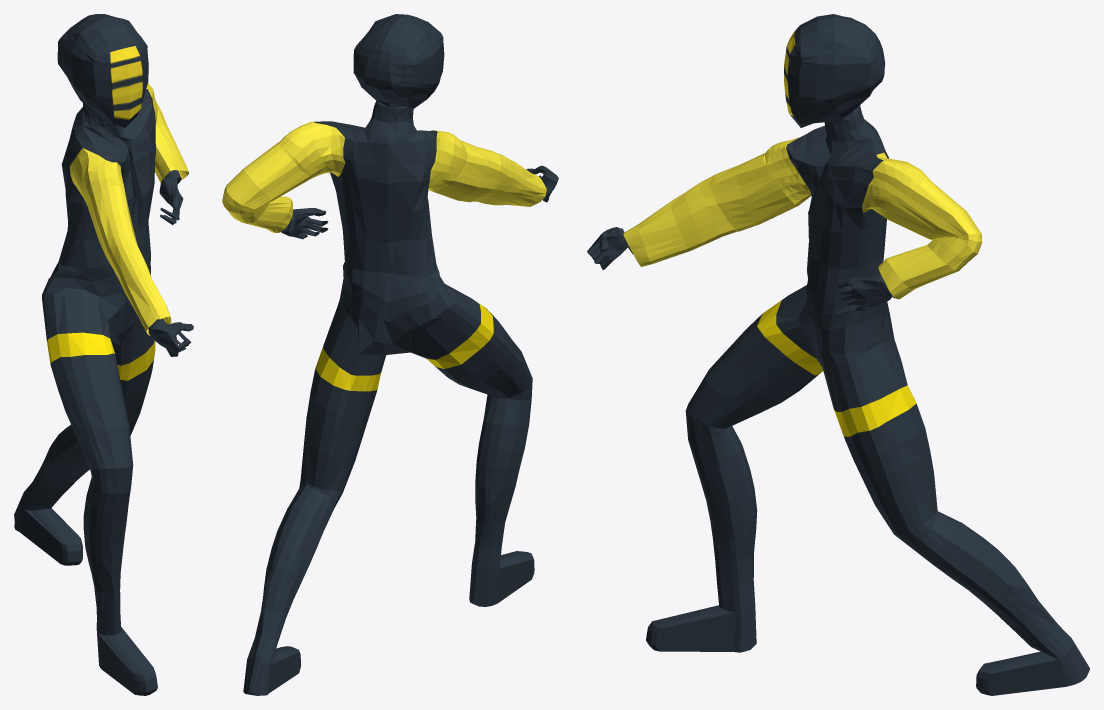
File: Sentry_Attack_000041.obj
3 views of the same model, side by side, from view 1: azimuth 30°, elevation 25°; view 2: azimuth 150°, elevation 25°; view 3: azimuth 270°, elevation 25° (orthographic). The views are drawn at different scales.
Parts seen in each view (by area): view 1: Cube; view 2: Cube; view 3: Cube.
Boxes of the visible parts, x1,y1,x2,y2 form: Cube: [14, 14, 193, 695]; Cube: [222, 14, 558, 695]; Cube: [587, 14, 1089, 695].
Size of the model in its own units: 1.18 by 3.61 by 2.52.
